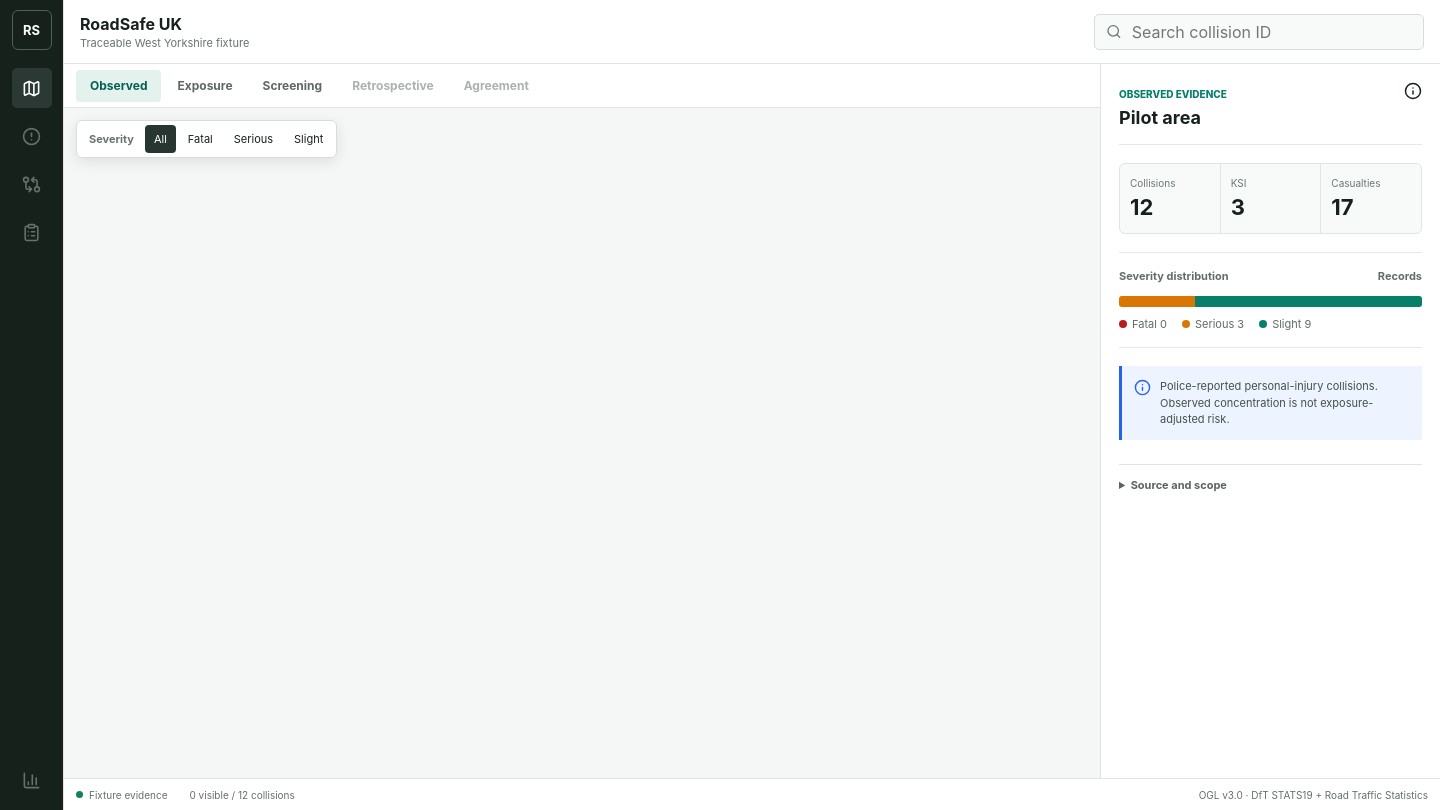
it: unavailable and failed matching never fall back to area points and allow retry
expect the text "Fixture evidence" is shown: met, box [76, 788, 168, 800]
Click the button "Exposure".
click(205, 86)  # box [164, 70, 247, 102]
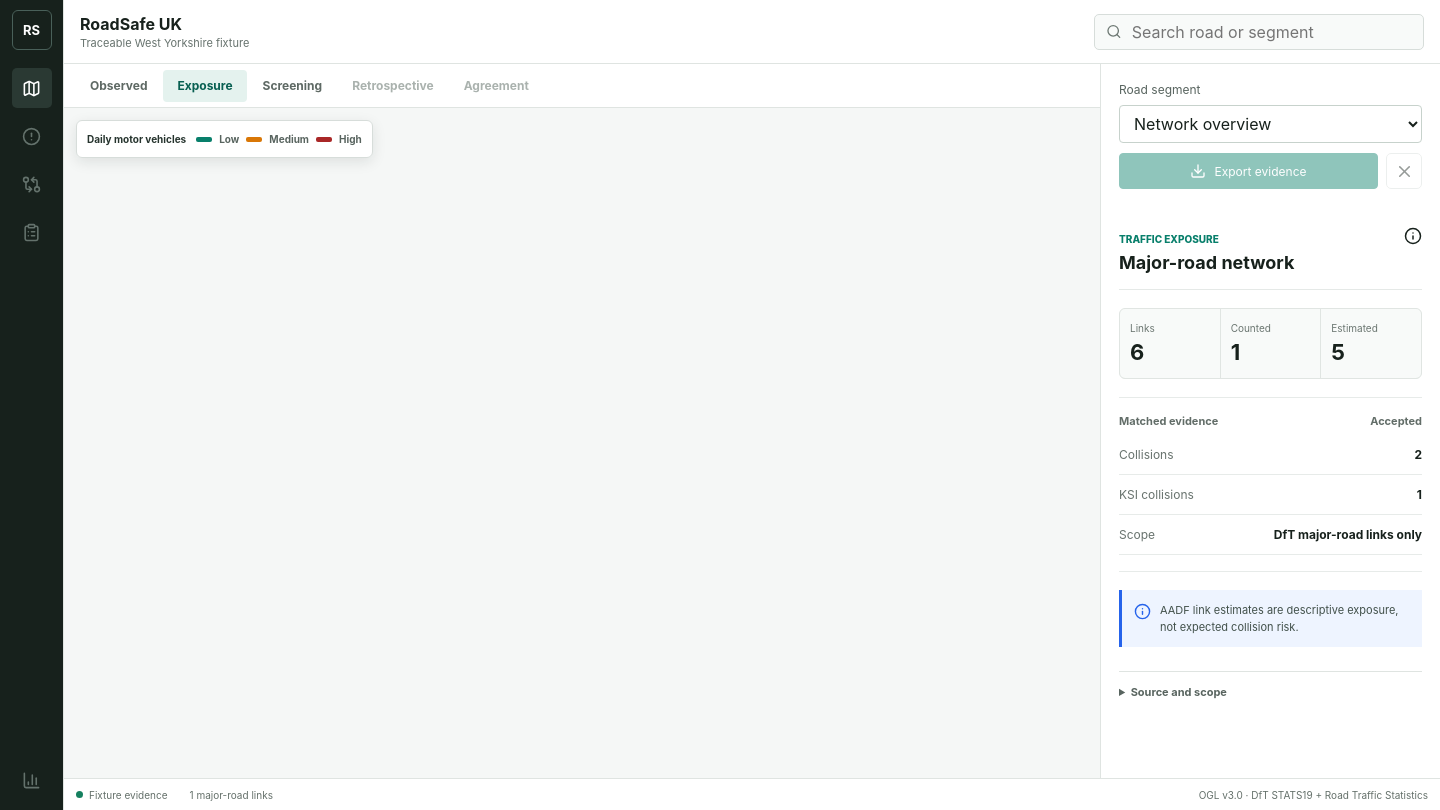
Select "A1 · 1" in the dropdown labelled "Road segment" at point(1270, 124), box [1119, 105, 1422, 143]
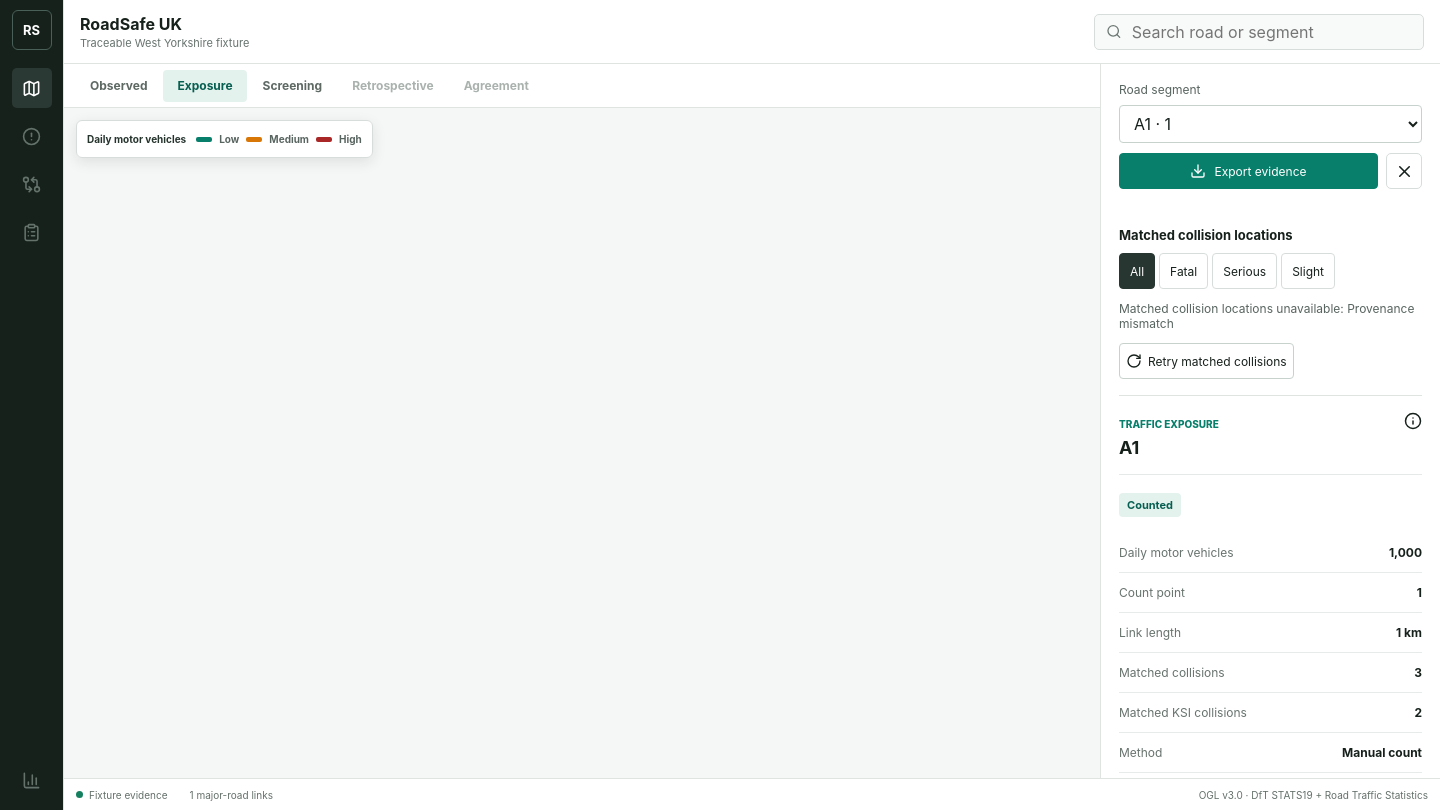
expect the text "Matched collision locations unavailable: Provenance mismatch" is shown: met, box [1119, 301, 1422, 331]
Click the button "Retry matched collisions".
click(1206, 361)  # box [1119, 343, 1294, 379]
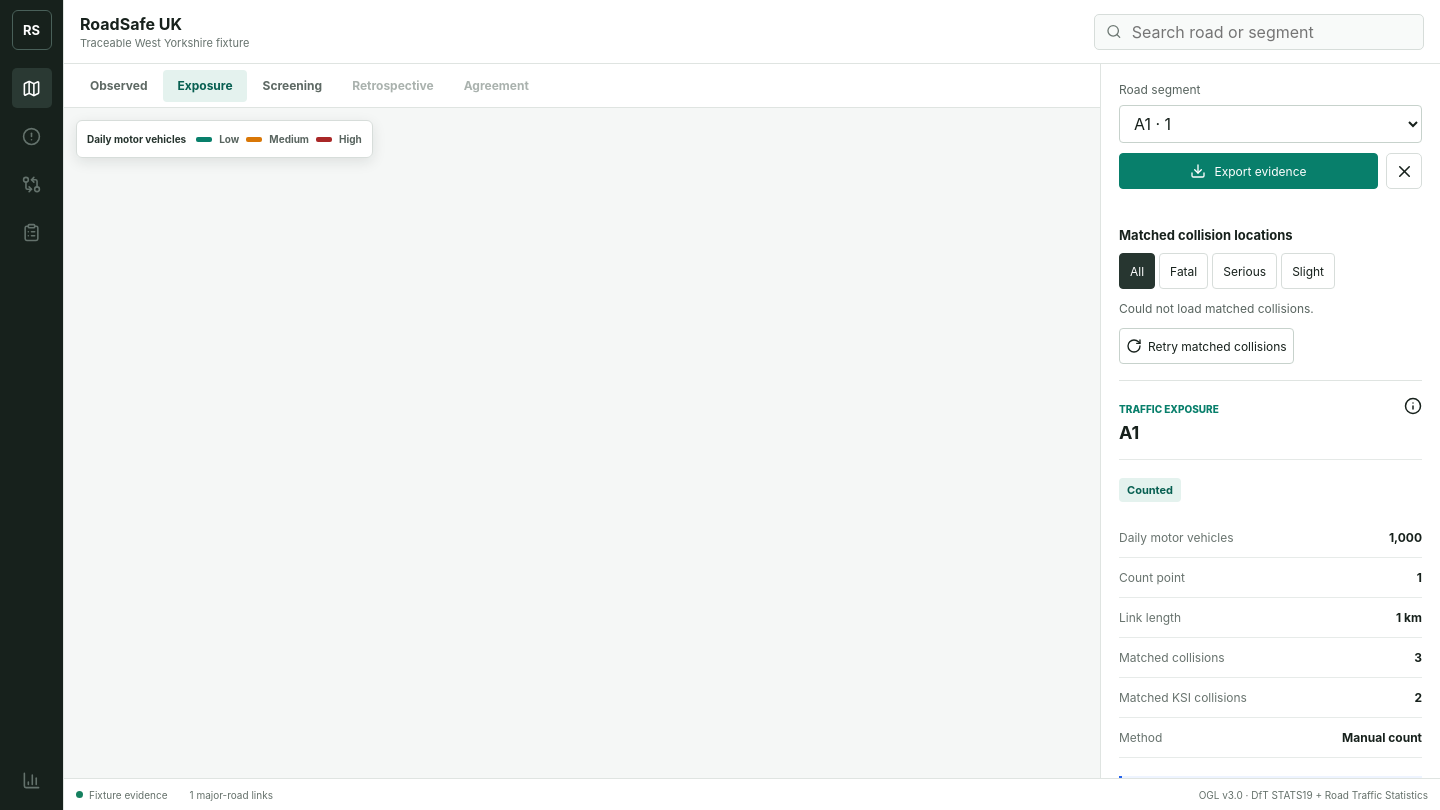
expect the text "Could not load matched collisions." is shown: met, box [1119, 301, 1314, 316]
Click the button "Retry matched collisions".
click(1206, 346)  # box [1119, 328, 1294, 364]
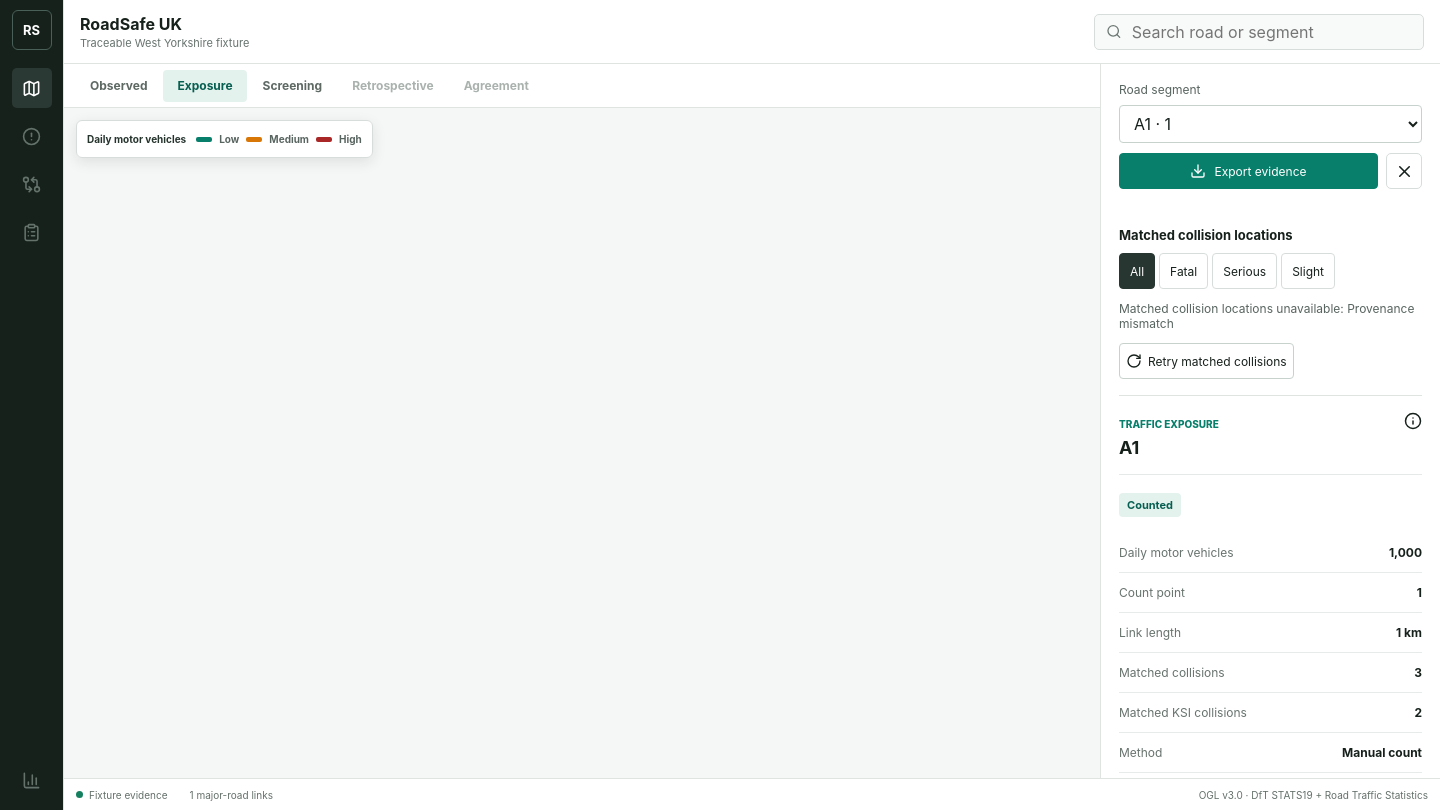
expect the text "Matched collision locations unavailable: Provenance mismatch" is shown: met, box [1119, 301, 1422, 331]
